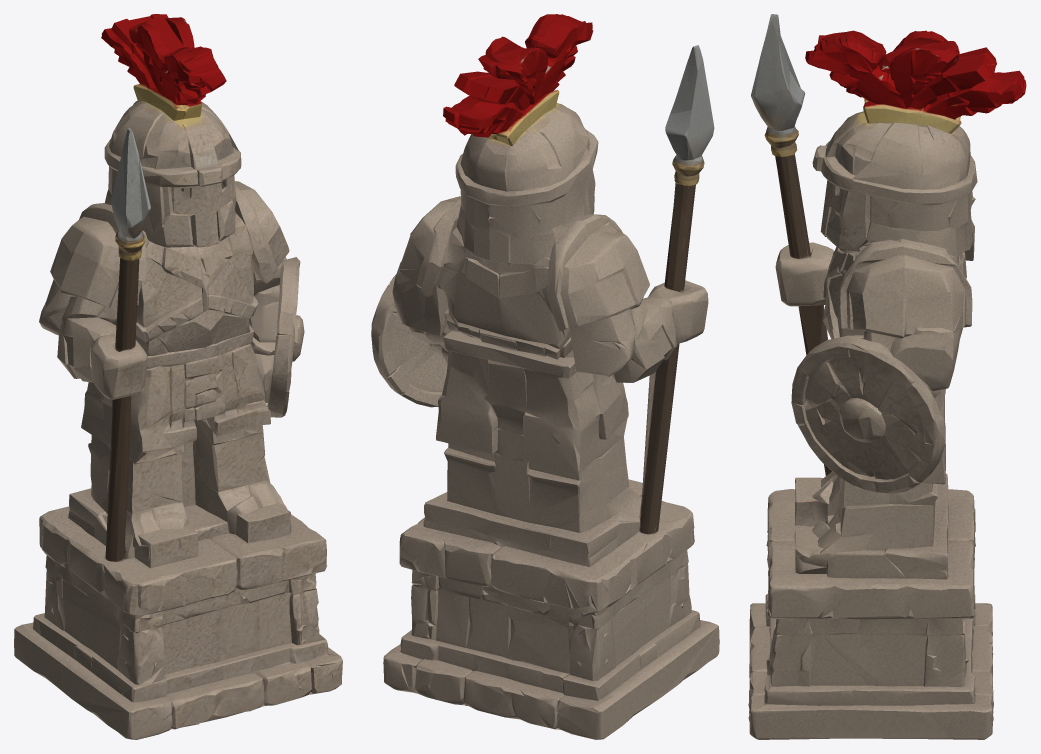
File: statue_two_eyes.glb
3 renders of one model, left to right at view 1: azimuth 30°, elevation 25°; view 2: azimuth 150°, elevation 25°; view 3: azimuth 270°, elevation 25°, orthographic. The views are drawn at different scales.
Visible parts, largest first — view 1: Mesh_0; view 2: Mesh_0; view 3: Mesh_0.
Part boxes in pixels (x1,y1,x2,y2): Mesh_0: (14,14,342,739); Mesh_0: (371,14,719,739); Mesh_0: (748,14,1026,739).
Bounding box in the file's own units: 0.82 × 1.9 × 0.7313.
Materials: 1 (1 with a texture image).
